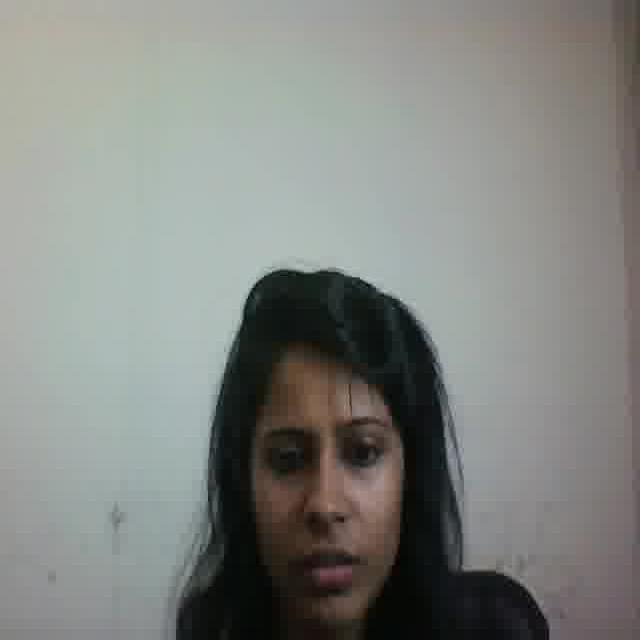Confusion: (240, 347, 401, 628)
